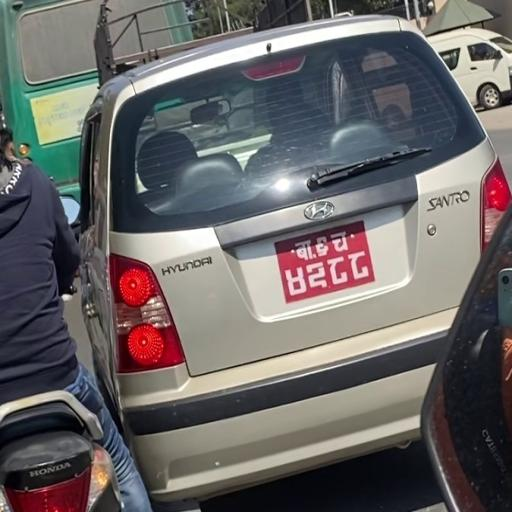license_plate: (273, 218, 378, 305)
